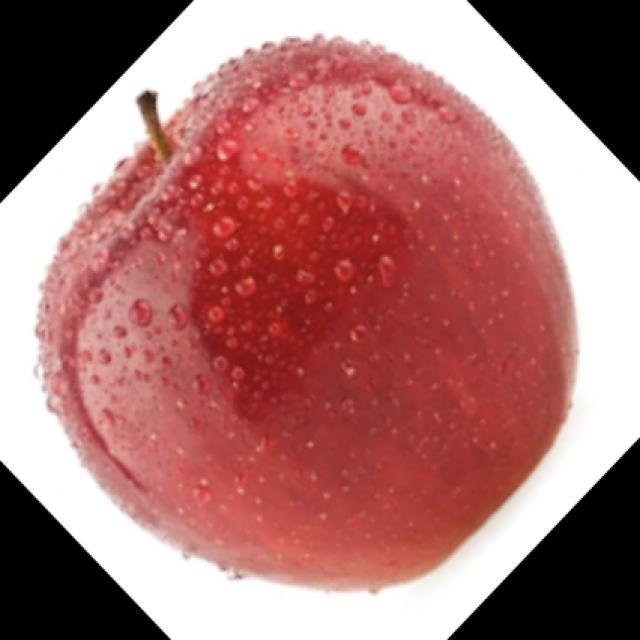Fresh Apple: (36, 31, 578, 594)
